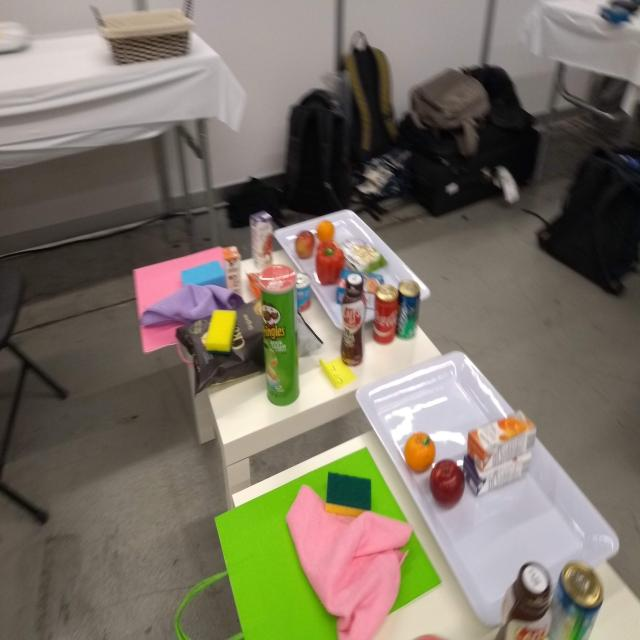apple: (426, 457, 467, 511), (294, 226, 317, 263)
chocolate_drink: (338, 272, 369, 367)
coke: (371, 283, 400, 348)
grape_juice: (249, 208, 274, 267)
orange: (405, 430, 436, 476), (317, 221, 337, 244)
paprika: (316, 244, 344, 287)
pringles: (257, 263, 304, 412)
scrubby: (324, 471, 374, 518), (204, 307, 241, 357)
sprite: (393, 276, 423, 341)
